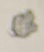microplastic: (8, 8, 39, 39)
